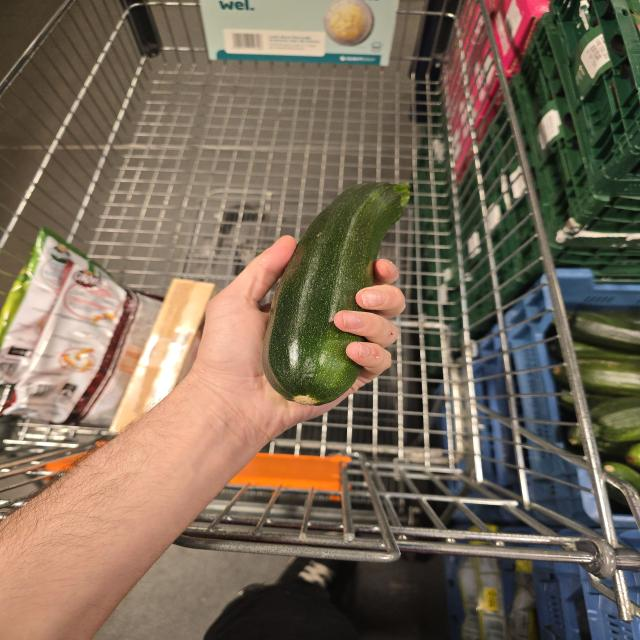Courgette: (263, 183, 410, 405)
